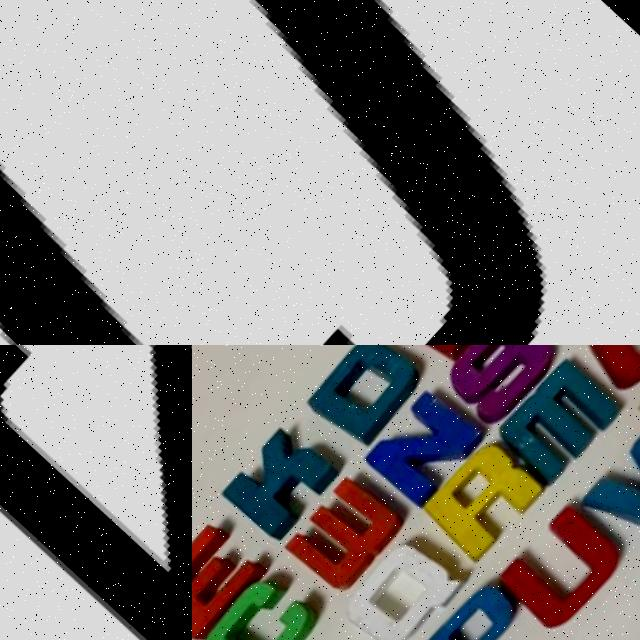C: (200, 557, 333, 640)
D: (302, 345, 437, 450)
E: (192, 514, 272, 640)
I: (0, 149, 173, 345)
J: (192, 0, 640, 345)
K: (0, 345, 192, 640), (225, 407, 356, 545)
M: (494, 345, 634, 482)
N: (363, 372, 493, 509)
P: (415, 562, 558, 640)
Q: (347, 517, 478, 640)
R: (423, 425, 553, 560)
S: (444, 345, 569, 421)
U: (497, 478, 640, 629)
V: (581, 406, 640, 549)
W: (285, 456, 422, 600)
